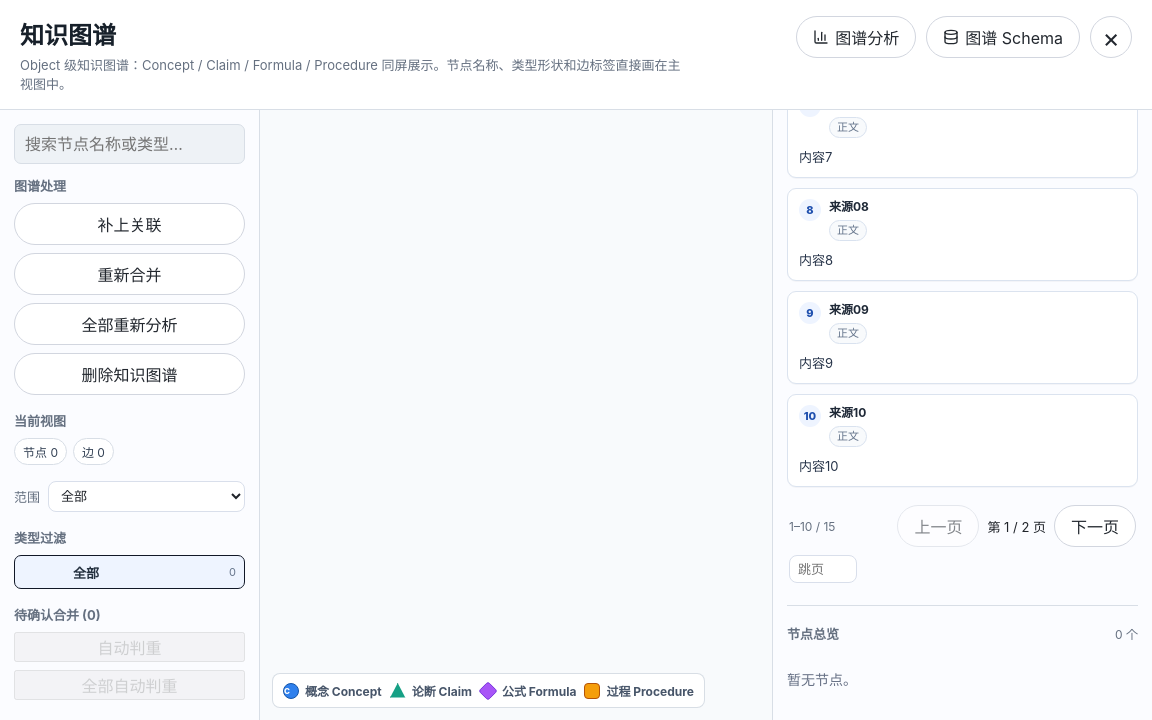
Test: 出处超过一页时分页展示，翻页后显示下一批
(page scrolled)
Expected: the text "1–10 / 15" is shown, [789,519,835,534]
Click the button "下一页" at (1095, 526), box [1054,505,1136,547]
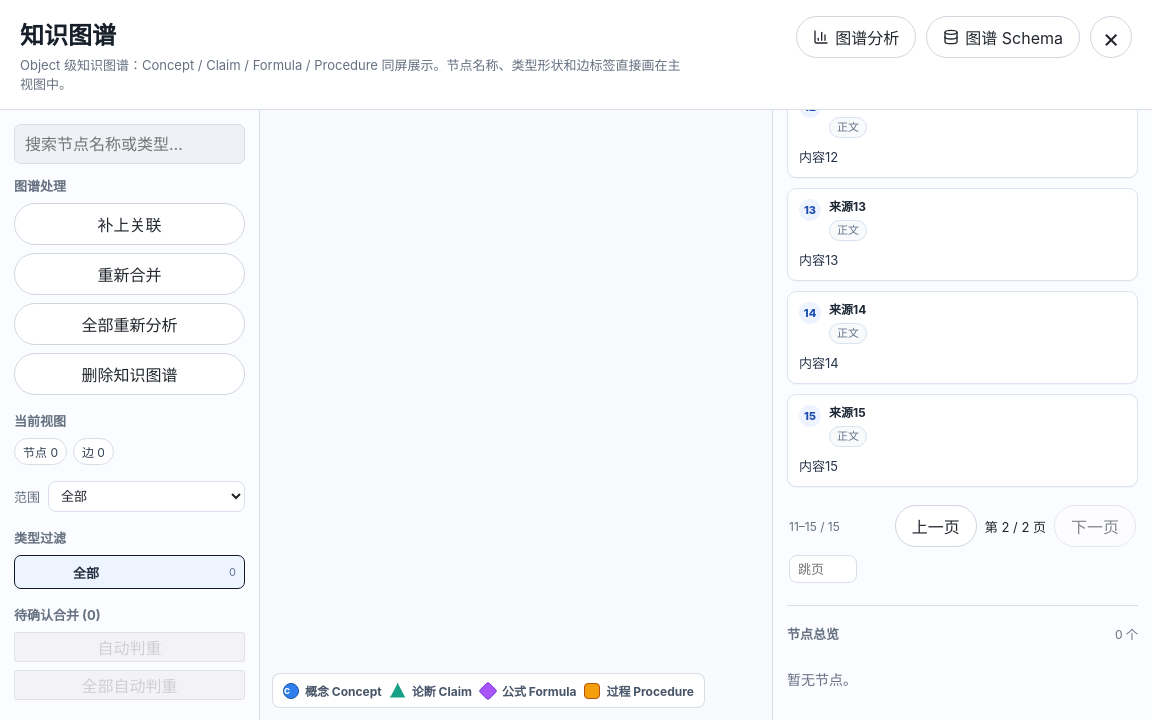
Now the button "下一页" is disabled, box [1054,505,1136,547]
